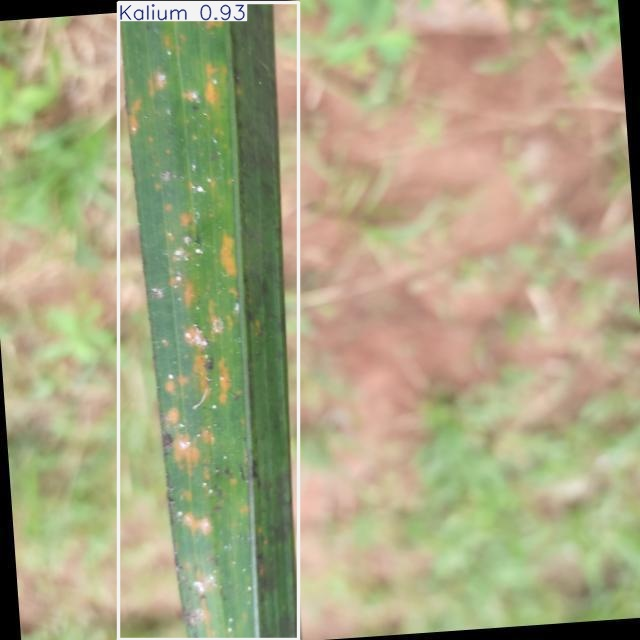Kalium: (119, 2, 299, 640)
